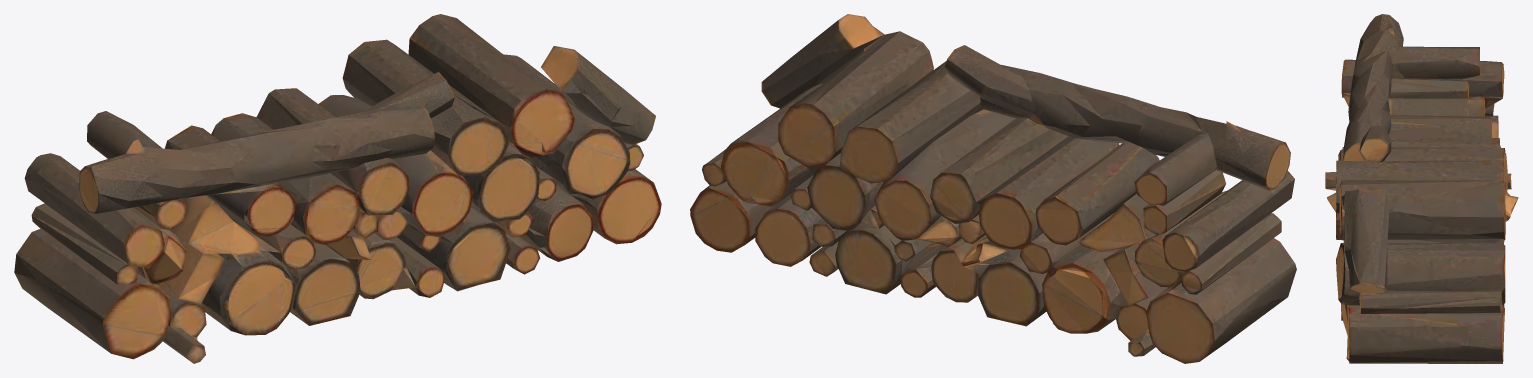
File: woodpile.glb
The picture shows the model from 3 angles, left to right: view 1: azimuth 30°, elevation 25°; view 2: azimuth 150°, elevation 25°; view 3: azimuth 270°, elevation 25°; orthographic projection. The views are drawn at different scales.
Size of the model in its own units: 1.9 by 0.6544 by 0.722.
Materials: 1 (1 with a texture image).
